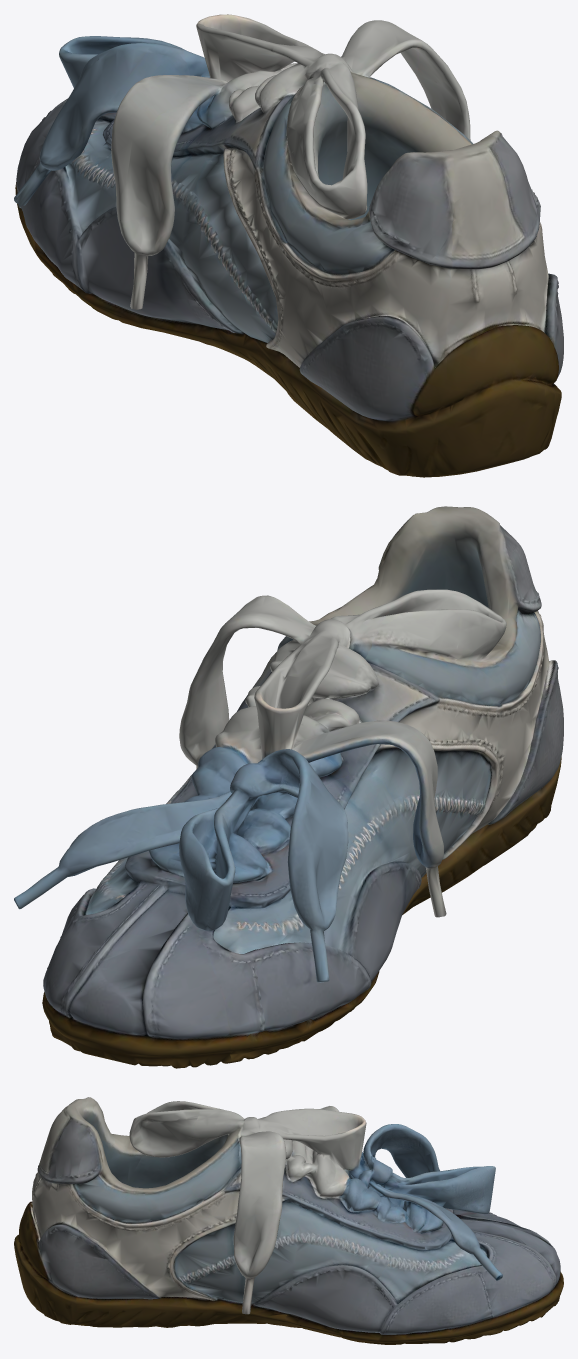
The model's file is blue.glb.
3 views of the same model, one above another, from view 1: azimuth 30°, elevation 25°; view 2: azimuth 150°, elevation 25°; view 3: azimuth 270°, elevation 25° (orthographic). The views are drawn at different scales.
Parts seen in each view (by area): view 1: tripo_node_7e1d8422-26f9-469e-9c13-d3e19bbb5263; view 2: tripo_node_7e1d8422-26f9-469e-9c13-d3e19bbb5263; view 3: tripo_node_7e1d8422-26f9-469e-9c13-d3e19bbb5263.
Boxes of the visible parts, <box> form: tripo_node_7e1d8422-26f9-469e-9c13-d3e19bbb5263: <box>14,14,563,477</box>; tripo_node_7e1d8422-26f9-469e-9c13-d3e19bbb5263: <box>14,506,563,1068</box>; tripo_node_7e1d8422-26f9-469e-9c13-d3e19bbb5263: <box>14,1097,563,1344</box>.
Bounding box in the file's own units: 0.4175 × 0.4003 × 0.9997.
1 material, 1 textured.
